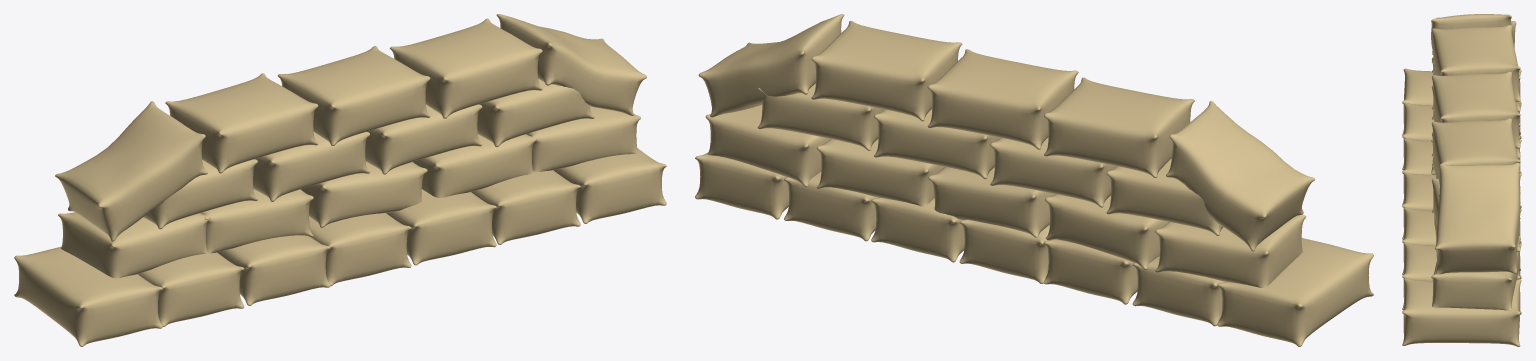
Rendered from sandbag1.fbx.
3 views of the same model, side by side, from view 1: azimuth 30°, elevation 25°; view 2: azimuth 150°, elevation 25°; view 3: azimuth 270°, elevation 25° (orthographic). The views are drawn at different scales.
Visible parts, largest first — view 1: Cube.004; view 2: Cube.004; view 3: Cube.004.
Boxes of the visible parts, x1=… form: Cube.004: x1=14, y1=14, x2=666, y2=346; Cube.004: x1=695, y1=14, x2=1373, y2=346; Cube.004: x1=1402, y1=14, x2=1521, y2=346.
Bounding box in the file's own units: 994 × 277 × 205.
